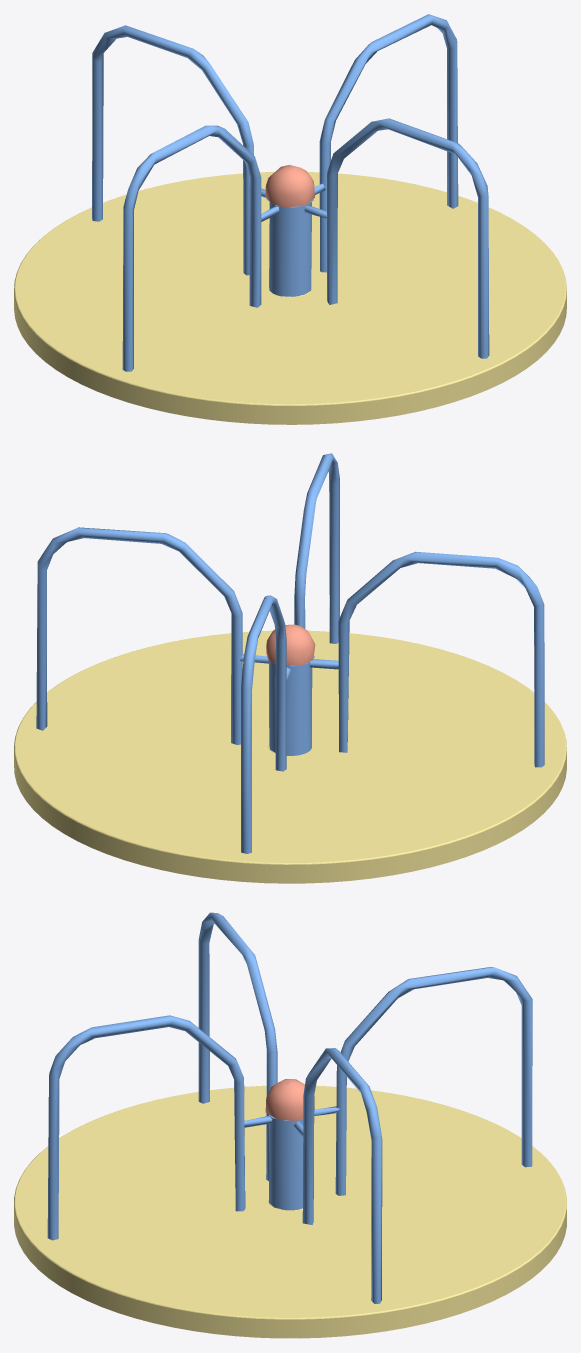
File: spin1.fbx
The picture shows the model from 3 angles, top to bottom: view 1: azimuth 30°, elevation 25°; view 2: azimuth 150°, elevation 25°; view 3: azimuth 270°, elevation 25°; orthographic projection.
Parts seen in each view (by area): view 1: Merry_Go_Round_01_, Merry_Go_Round_01_.001, Merry_Go_Round_01_.002; view 2: Merry_Go_Round_01_, Merry_Go_Round_01_.001, Merry_Go_Round_01_.002; view 3: Merry_Go_Round_01_, Merry_Go_Round_01_.001, Merry_Go_Round_01_.002.
Part boxes in pixels (left/top/right/bottom): Merry_Go_Round_01_: left=14, top=172, right=566, bottom=424; Merry_Go_Round_01_.001: left=92, top=14, right=489, bottom=371; Merry_Go_Round_01_.002: left=265, top=165, right=314, bottom=207; Merry_Go_Round_01_: left=14, top=630, right=566, bottom=883; Merry_Go_Round_01_.001: left=36, top=453, right=544, bottom=853; Merry_Go_Round_01_.002: left=266, top=624, right=315, bottom=665; Merry_Go_Round_01_: left=14, top=1083, right=566, bottom=1338; Merry_Go_Round_01_.001: left=47, top=912, right=532, bottom=1303; Merry_Go_Round_01_.002: left=265, top=1079, right=314, bottom=1120.
Bounding box in the file's own units: 4966 × 2339 × 4966.
